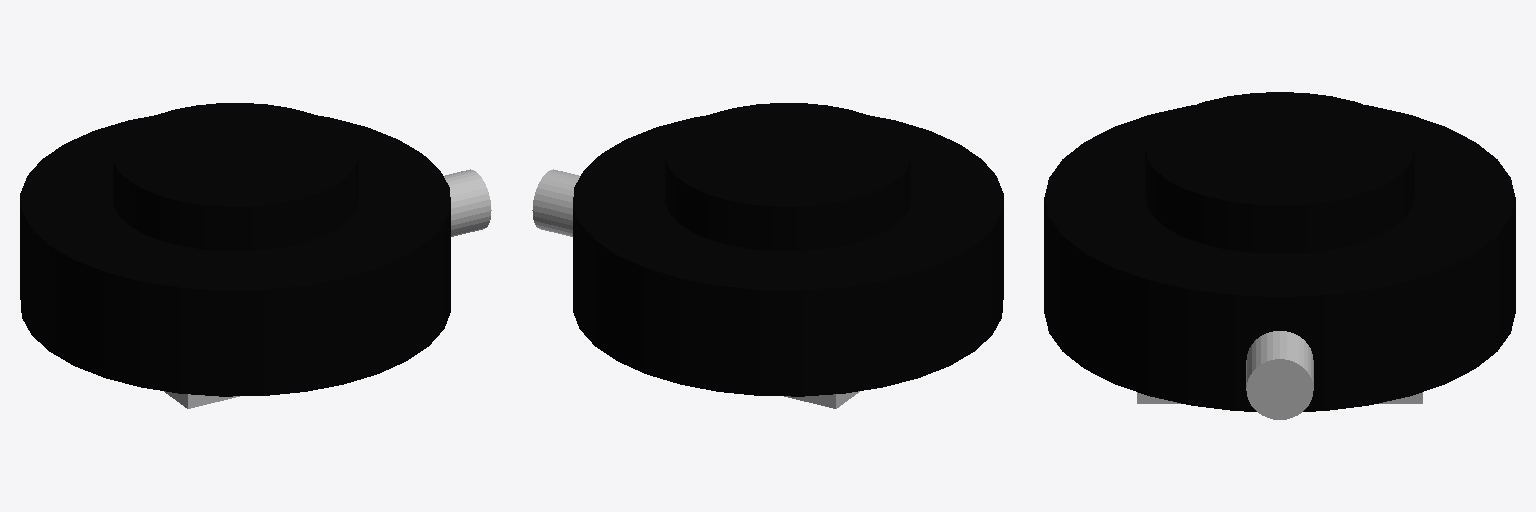
The robot description file, URDF, robot "unigripper":
<?xml version="1.0" ?>
<robot name="unigripper" xmlns:xacro="http://ros.org/wiki/xacro">

  <link name="arm_to_sensor_plate">
    <visual>
      <origin xyz="0 0 0" rpy="0 0 0" />
      <geometry>
        <box size="0.085 0.085 0.01" />
      </geometry>
      <material name="silver">
        <color rgba="0.76 0.76 0.76 1"/>
      </material>
    </visual>
    <collision>
      <origin xyz="0 0 0" rpy="0 0 0" />
      <geometry>
        <box size="0.085 0.085 0.01" />
      </geometry>
      <material name="silver">
        <color rgba="0.76 0.76 0.76 1"/>
      </material>
    </collision>
  </link>

  <link name="force_torque_ring">
    <visual>
      <origin xyz="0 0 0" rpy="0 0 0" />
      <geometry>
        <cylinder radius="0.07" length="0.038" />
      </geometry>
      <material name="black">
        <color rgba="0.05 0.05 0.05 1"/>
      </material>
    </visual>
    <collision>
      <origin xyz="0 0 0" rpy="0 0 0" />
      <geometry>
        <cylinder radius="0.07" length="0.038" />
      </geometry>
      <material name="black">
        <color rgba="0.05 0.05 0.05 1"/>
      </material>
    </collision>
  </link>

  <link name="to_hand_ring">
    <visual>
      <origin xyz="0 0 0" rpy="0 0 0" />
      <geometry>
        <cylinder radius="0.04" length="0.016" />
      </geometry>
      <material name="black">
        <color rgba="0.05 0.05 0.05 1"/>
      </material>
    </visual>
    <collision>
      <origin xyz="0 0 0" rpy="0 0 0" />
      <geometry>
        <cylinder radius="0.04" length="0.016" />
      </geometry>
      <material name="black">
        <color rgba="0.05 0.05 0.05 1"/>
      </material>
    </collision>
  </link>

  <link name="io_port">
    <visual>
      <origin xyz="0 0 0" rpy="0 0 0" />
      <geometry>
        <cylinder radius="0.01" length="0.02" />
      </geometry>
      <material name="silver">
        <color rgba="0.76 0.76 0.76 1"/>
      </material>
    </visual>
    <collision>
      <origin xyz="0 0 0" rpy="0 0 0" />
      <geometry>
        <cylinder radius="0.01" length="0.02" />
      </geometry>
      <material name="silver">
        <color rgba="0.76 0.76 0.76 1"/>
      </material>
    </collision>
  </link>
 
<!-- Joints -->

  <joint name="arm_sensor" type="fixed">
    <origin xyz="0.0 0.0 0.024" rpy="0 0 0" />
    <axis xyz="0 0 0" />
    <parent link="arm_to_sensor_plate" />
    <child link="force_torque_ring" />
  </joint>

  <joint name="sensor_hand" type="fixed">
    <origin xyz="0.0 0.0 0.027" rpy="0 0 0" />
    <axis xyz="0 0 0" />
    <parent link="force_torque_ring" />
    <child link="to_hand_ring" />
  </joint>

  <joint name="sensor_port" type="fixed">
    <origin xyz="0.08 0.0 -0.002" rpy="0 1.5707 0" />
    <axis xyz="0 0 0" />
    <parent link="force_torque_ring" />
    <child link="io_port" />
  </joint>

</robot>

--- Render facts (derived) ---
The picture shows the robot from 3 angles, left to right: view 1: azimuth 30°, elevation 25°; view 2: azimuth 150°, elevation 25°; view 3: azimuth 270°, elevation 25°; orthographic projection.
Robot: unigripper — 4 links, 3 joints (3 fixed); root link arm_to_sensor_plate; default pose: all joints at 0.
Links seen in each view (by area): view 1: force_torque_ring, to_hand_ring, io_port, arm_to_sensor_plate; view 2: force_torque_ring, to_hand_ring, io_port, arm_to_sensor_plate; view 3: force_torque_ring, to_hand_ring, io_port.
Link boxes in pixels (<box>): force_torque_ring: <box>20,115,450,396</box>; to_hand_ring: <box>113,103,358,250</box>; io_port: <box>444,169,491,236</box>; arm_to_sensor_plate: <box>164,391,239,408</box>; force_torque_ring: <box>573,115,1003,396</box>; to_hand_ring: <box>665,103,910,250</box>; io_port: <box>532,169,579,236</box>; arm_to_sensor_plate: <box>784,391,859,408</box>; force_torque_ring: <box>1044,105,1515,411</box>; to_hand_ring: <box>1145,92,1414,253</box>; io_port: <box>1246,331,1313,419</box>.
Size in the robot's own frame: 0.16 by 0.14 by 0.064 metres.
Geometry: primitives only (box / cylinder / sphere), no mesh files.